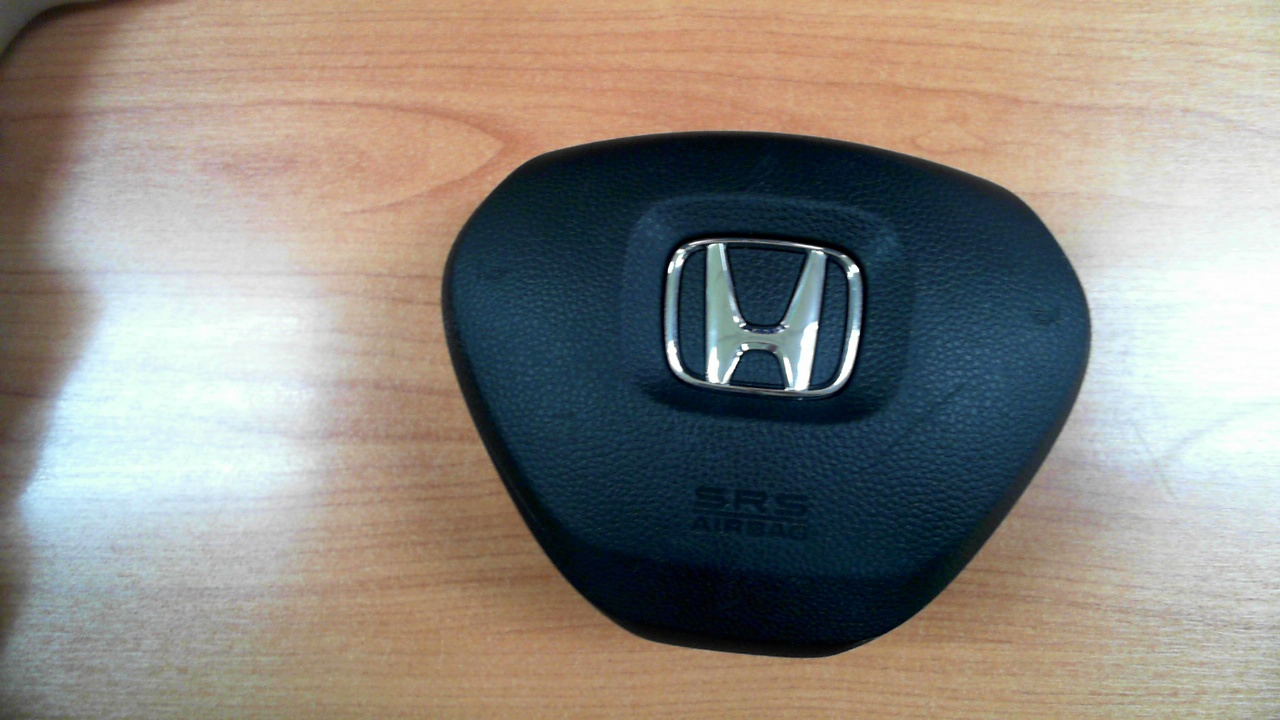Airbag: (439, 130, 1093, 659)
Honda: (663, 237, 864, 401)
